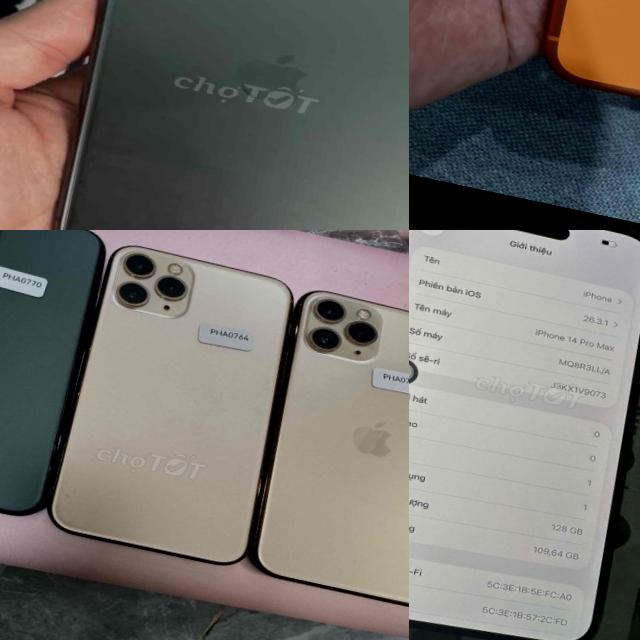gen_11: (41, 232, 306, 578), (36, 0, 409, 230), (246, 275, 409, 622), (0, 230, 110, 527)
gen_14: (409, 230, 640, 640)
gen_17: (515, 0, 640, 151)
